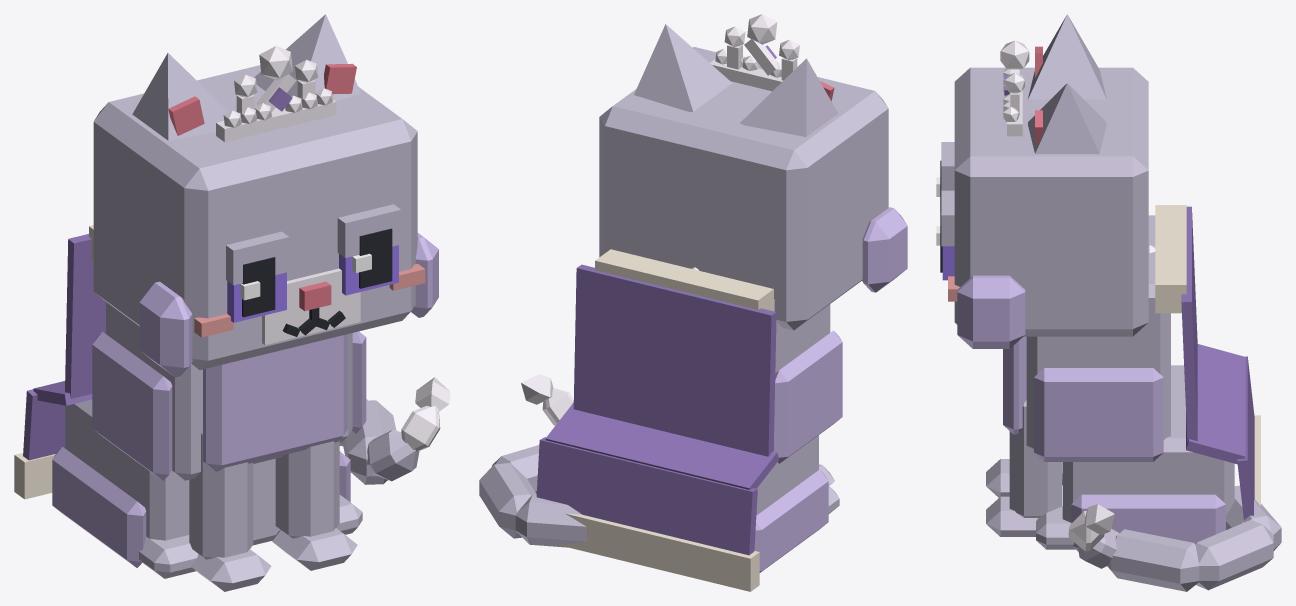
File: CatCafe_Cat_DuchessMarzipan_Sit.fbx
3 renders of one model, left to right at view 1: azimuth 30°, elevation 25°; view 2: azimuth 150°, elevation 25°; view 3: azimuth 270°, elevation 25°, orthographic. The views are drawn at different scales.
Parts seen in each view (by area): view 1: CatCafe_Cat_DuchessMarzipan_Sit_Head, CatCafe_Cat_DuchessMarzipan_Sit_Body, CatCafe_Cat_DuchessMarzipan_Sit_Prop2, CatCafe_Cat_DuchessMarzipan_Sit_LegF2, CatCafe_Cat_DuchessMarzipan_Sit_LegF1, CatCafe_Cat_DuchessMarzipan_Sit_Prop, CatCafe_Cat_DuchessMarzipan_Sit_Tail, CatCafe_Cat_DuchessMarzipan_Sit_Eye2, CatCafe_Cat_DuchessMarzipan_Sit_Eye1, CatCafe_Cat_DuchessMarzipan_Sit_EarR, CatCafe_Cat_DuchessMarzipan_Sit_EarL; view 2: CatCafe_Cat_DuchessMarzipan_Sit_Prop2, CatCafe_Cat_DuchessMarzipan_Sit_Head, CatCafe_Cat_DuchessMarzipan_Sit_Body, CatCafe_Cat_DuchessMarzipan_Sit_Tail, CatCafe_Cat_DuchessMarzipan_Sit_EarL, CatCafe_Cat_DuchessMarzipan_Sit_EarR, CatCafe_Cat_DuchessMarzipan_Sit_Prop; view 3: CatCafe_Cat_DuchessMarzipan_Sit_Head, CatCafe_Cat_DuchessMarzipan_Sit_Body, CatCafe_Cat_DuchessMarzipan_Sit_Prop2, CatCafe_Cat_DuchessMarzipan_Sit_Tail, CatCafe_Cat_DuchessMarzipan_Sit_LegF1, CatCafe_Cat_DuchessMarzipan_Sit_EarL, CatCafe_Cat_DuchessMarzipan_Sit_EarR, CatCafe_Cat_DuchessMarzipan_Sit_Prop, CatCafe_Cat_DuchessMarzipan_Sit_Eye1, CatCafe_Cat_DuchessMarzipan_Sit_Eye2, CatCafe_Cat_DuchessMarzipan_Sit_LegF2.
Part boxes in pixels (x1,y1,x2,y2): CatCafe_Cat_DuchessMarzipan_Sit_Head: (93,65,438,377); CatCafe_Cat_DuchessMarzipan_Sit_Body: (52,302,366,578); CatCafe_Cat_DuchessMarzipan_Sit_Prop2: (14,225,105,499); CatCafe_Cat_DuchessMarzipan_Sit_LegF2: (189,431,271,591); CatCafe_Cat_DuchessMarzipan_Sit_LegF1: (272,440,357,570); CatCafe_Cat_DuchessMarzipan_Sit_Prop: (216,46,336,142); CatCafe_Cat_DuchessMarzipan_Sit_Tail: (339,377,450,484); CatCafe_Cat_DuchessMarzipan_Sit_Eye2: (226,231,289,322); CatCafe_Cat_DuchessMarzipan_Sit_Eye1: (337,204,401,295); CatCafe_Cat_DuchessMarzipan_Sit_EarR: (132,53,228,140); CatCafe_Cat_DuchessMarzipan_Sit_EarL: (254,14,361,101); CatCafe_Cat_DuchessMarzipan_Sit_Prop2: (536,249,778,591); CatCafe_Cat_DuchessMarzipan_Sit_Head: (599,47,907,330); CatCafe_Cat_DuchessMarzipan_Sit_Body: (754,299,842,572); CatCafe_Cat_DuchessMarzipan_Sit_Tail: (479,374,586,547); CatCafe_Cat_DuchessMarzipan_Sit_EarL: (634,24,732,111); CatCafe_Cat_DuchessMarzipan_Sit_EarR: (740,58,838,136); CatCafe_Cat_DuchessMarzipan_Sit_Prop: (710,14,799,91); CatCafe_Cat_DuchessMarzipan_Sit_Head: (948,67,1148,348); CatCafe_Cat_DuchessMarzipan_Sit_Body: (1003,215,1234,551); CatCafe_Cat_DuchessMarzipan_Sit_Prop2: (1148,205,1260,522); CatCafe_Cat_DuchessMarzipan_Sit_Tail: (1068,485,1281,591); CatCafe_Cat_DuchessMarzipan_Sit_LegF1: (986,400,1061,536); CatCafe_Cat_DuchessMarzipan_Sit_EarL: (1028,83,1106,153); CatCafe_Cat_DuchessMarzipan_Sit_EarR: (1028,14,1106,99); CatCafe_Cat_DuchessMarzipan_Sit_Prop: (1000,40,1029,136); CatCafe_Cat_DuchessMarzipan_Sit_Eye1: (936,190,954,280); CatCafe_Cat_DuchessMarzipan_Sit_Eye2: (936,142,954,211); CatCafe_Cat_DuchessMarzipan_Sit_LegF2: (986,459,1009,497).
Bounding box in the file's own units: 1.34 × 1.88 × 1.25.
Materials: 1 (1 with a texture image).
